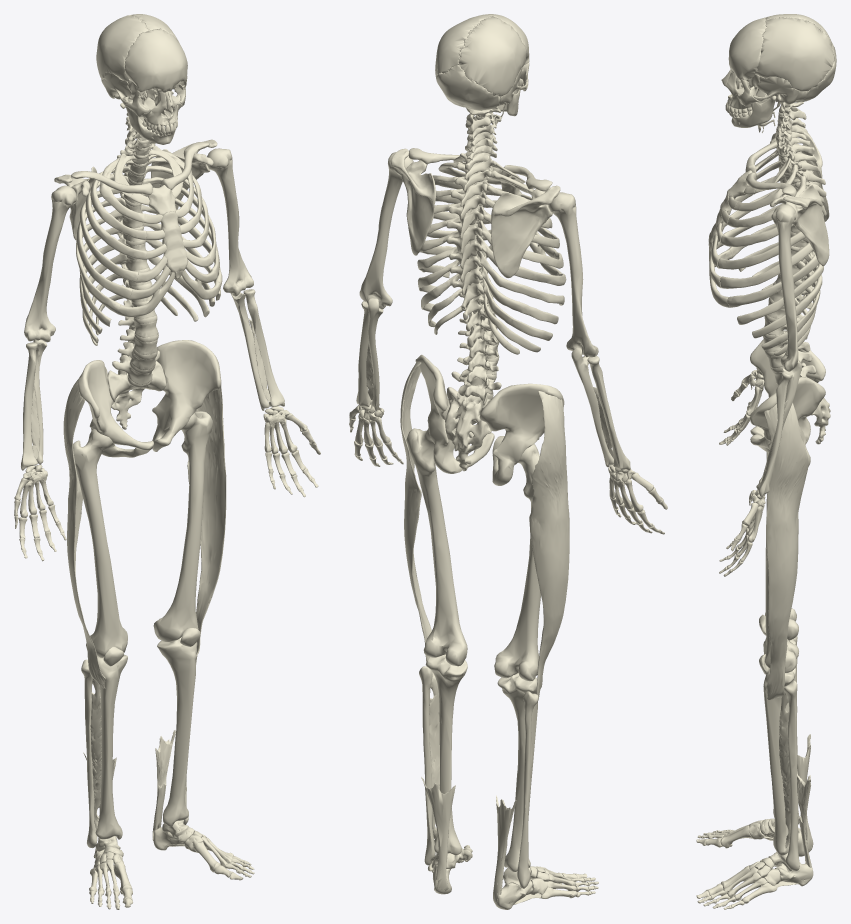
The model's file is skeletal.glb.
3 views of the same model, side by side, from view 1: azimuth 30°, elevation 25°; view 2: azimuth 150°, elevation 25°; view 3: azimuth 270°, elevation 25° (orthographic). The views are drawn at different scales.
Visible parts, largest first — view 1: FMA24475, FMA24474, FMA58777, FMA16587, FMA24478, FMA52734, FMA58776, FMA24477, FMA16586, FMA23130, FMA23131, FMA52788 (+20 smaller); view 2: FMA58776, FMA24475, FMA16586, FMA52788, FMA13395, FMA24474, FMA58777, FMA24478, FMA16587, FMA24477, FMA23130, FMA13396 (+18 smaller); view 3: FMA58777, FMA52789, FMA23131, FMA24478, FMA13396, FMA16587, FMA24481, FMA52734, FMA16586, FMA35193, FMA23465, FMA52739 (+25 smaller).
Part boxes in pixels (<box>): FMA24475: <box>153,411,212,641</box>; FMA24474: <box>73,428,127,657</box>; FMA58777: <box>187,371,226,664</box>; FMA16587: <box>152,340,221,451</box>; FMA24478: <box>157,637,197,826</box>; FMA52734: <box>125,28,187,93</box>; FMA58776: <box>63,379,105,688</box>; FMA24477: <box>88,654,127,839</box>; FMA16586: <box>78,360,153,457</box>; FMA23130: <box>24,185,76,342</box>; FMA23131: <box>207,148,253,296</box>; FMA52788: <box>96,15,149,81</box>; FMA58776: <box>529,391,569,703</box>; FMA24475: <box>406,428,467,666</box>; FMA16586: <box>480,383,564,485</box>; FMA52788: <box>458,16,526,96</box>; FMA13395: <box>491,185,560,278</box>; FMA24474: <box>494,444,540,681</box>; FMA58777: <box>400,361,435,678</box>; FMA24478: <box>425,654,467,854</box>; FMA16587: <box>415,354,494,473</box>; FMA24477: <box>497,673,537,871</box>; FMA23130: <box>549,192,598,357</box>; FMA13396: <box>391,148,435,255</box>; FMA58777: <box>764,403,808,699</box>; FMA52789: <box>755,17,834,91</box>; FMA23131: <box>771,204,798,371</box>; FMA24478: <box>763,668,795,855</box>; FMA13396: <box>770,184,829,266</box>; FMA16587: <box>750,377,825,466</box>; FMA24481: <box>784,680,799,870</box>; FMA52734: <box>728,17,766,80</box>; FMA16586: <box>750,330,825,443</box>; FMA35193: <box>779,692,790,848</box>; FMA23465: <box>756,371,792,497</box>; FMA52739: <box>753,76,807,107</box>.
Bounding box in the file's own units: 1.32 × 3.49 × 0.5189.
